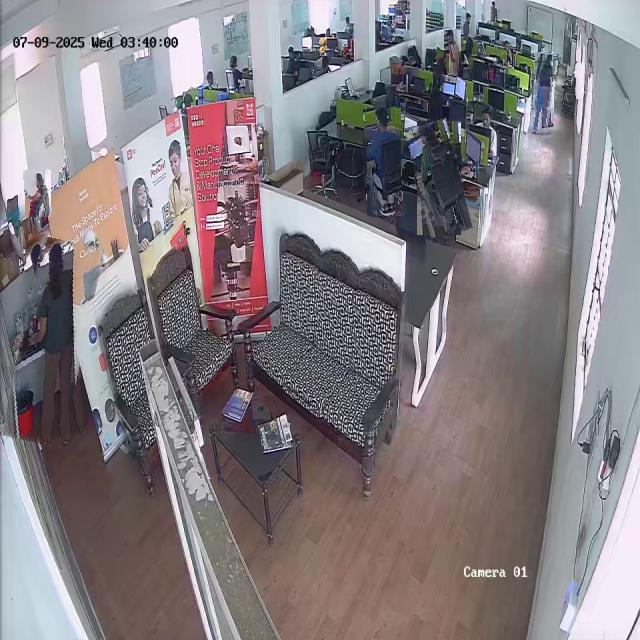person: (11, 238, 94, 446), (411, 120, 468, 237), (365, 107, 403, 217), (531, 51, 558, 136), (24, 170, 52, 217), (444, 30, 461, 75)
